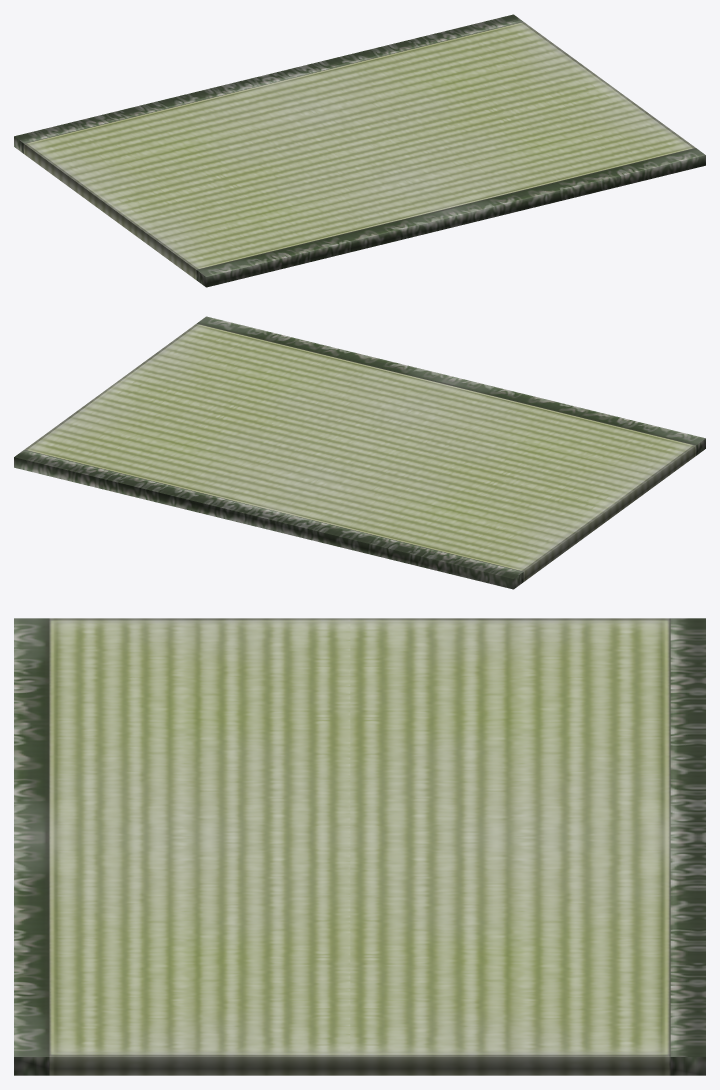
Rendered from JapaneseTatami_HD.fbx.
3 renders of one model, top to bottom at view 1: azimuth 30°, elevation 25°; view 2: azimuth 150°, elevation 25°; view 3: azimuth 270°, elevation 25°, orthographic. The views are drawn at different scales.
Visible parts, largest first — view 1: JapaneseTatami; view 2: JapaneseTatami; view 3: JapaneseTatami.
Part boxes in pixels (x1,y1,x2,y2): JapaneseTatami: (14,14,705,287); JapaneseTatami: (14,316,705,589); JapaneseTatami: (14,618,705,1075).
Bounding box in the file's own units: 3 × 0.06 × 2.
